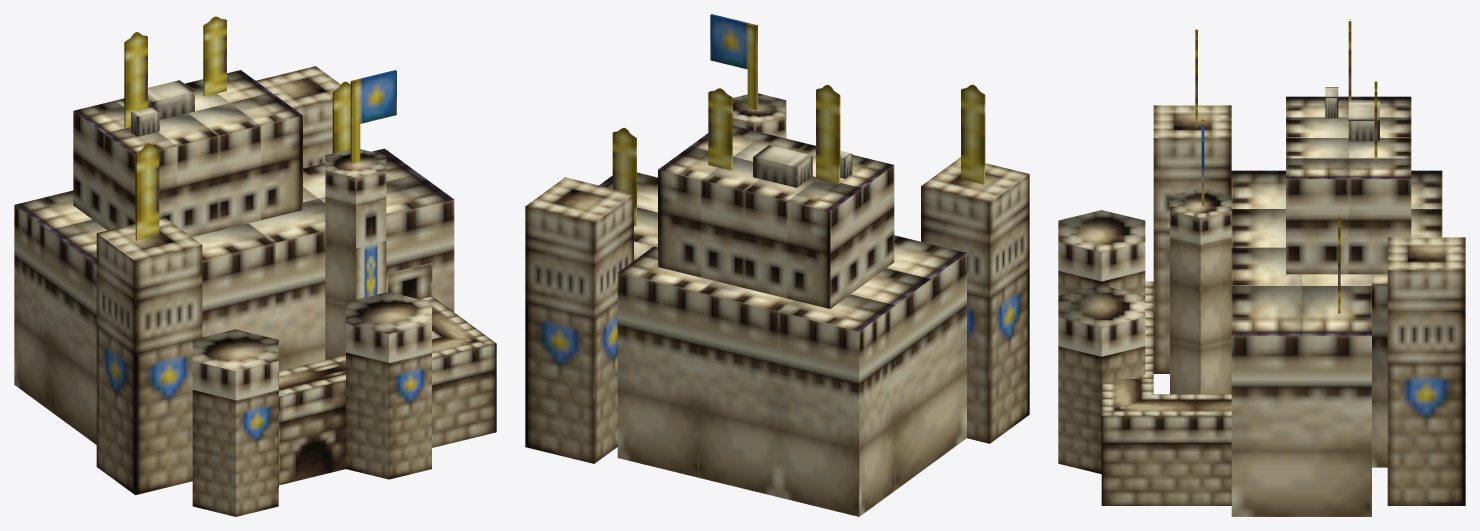
The model's file is Poly_World_Map_Castle_03.obj.
3 renders of one model, left to right at view 1: azimuth 30°, elevation 25°; view 2: azimuth 150°, elevation 25°; view 3: azimuth 270°, elevation 25°, orthographic. The views are drawn at different scales.
Visible parts, largest first — view 1: Grid.006, Grid.005, Grid.002, Grid.004, Grid.003, Grid.007, Grid.001, Grid.008; view 2: Grid.006, Grid.005, Grid.007, Grid.001, Grid.008, Grid.003; view 3: Grid.006, Grid.005, Grid.002, Grid.004, Grid.003, Grid.008, Grid.007.
Part boxes in pixels (x1,y1,x2,y2): Grid.006: (73,66,340,494); Grid.005: (14,148,454,444); Grid.002: (192,292,431,516); Grid.004: (279,262,496,485); Grid.003: (325,149,386,359); Grid.007: (124,16,350,240); Grid.001: (350,70,396,163); Grid.008: (131,80,194,136); Grid.006: (525,125,1029,463); Grid.005: (599,172,966,516); Grid.007: (612,84,985,226); Grid.001: (710,14,757,109); Grid.008: (753,145,852,187); Grid.003: (732,93,786,138); Grid.006: (1153,96,1465,505); Grid.005: (1231,170,1442,516); Grid.002: (1058,210,1145,473); Grid.004: (1101,281,1231,505); Grid.003: (1170,188,1231,394); Grid.008: (1325,87,1379,141); Grid.007: (1195,19,1377,313).
Bounding box in the file's own units: 1.6 × 1.57 × 1.57.
1 material, 1 textured.
